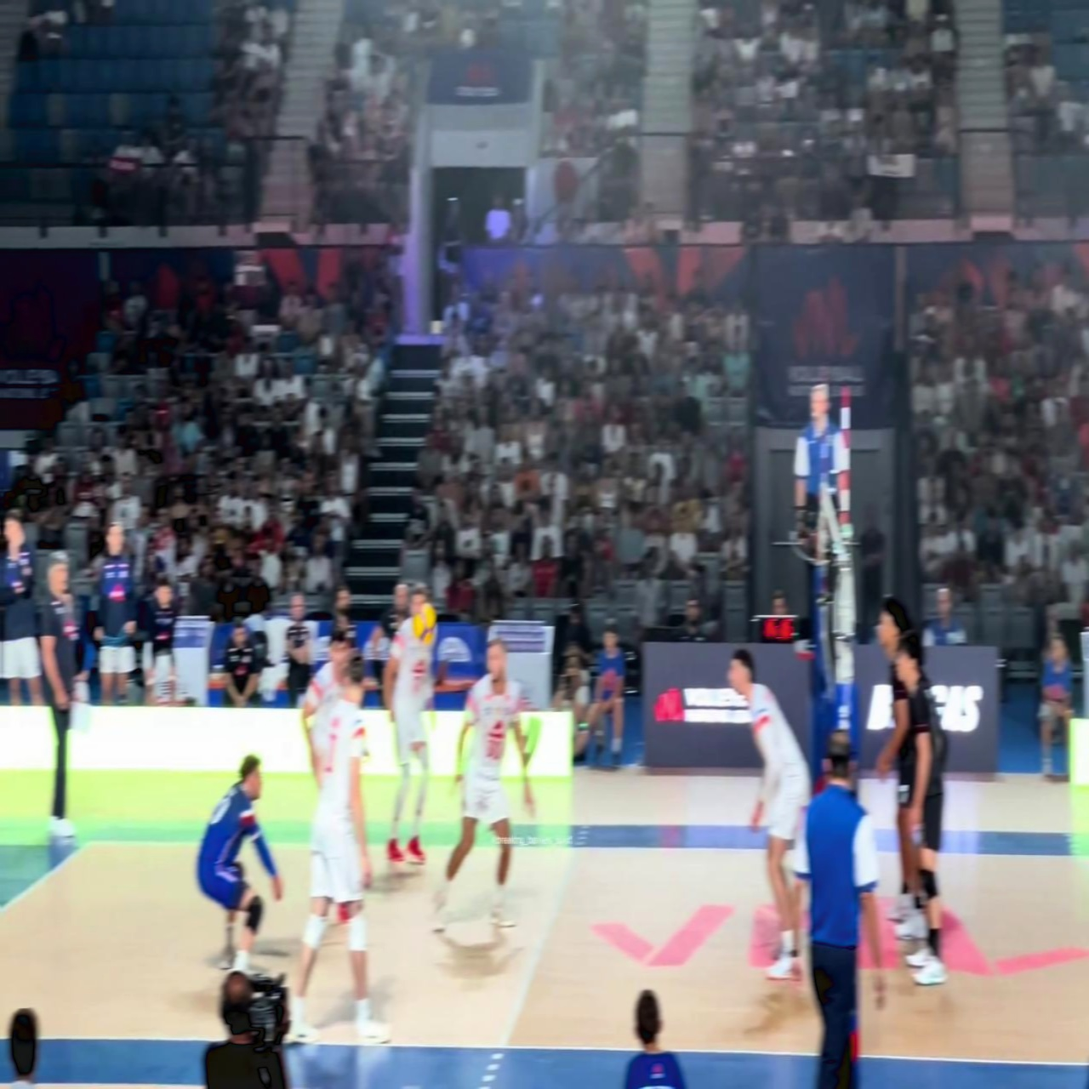ball: (413, 604, 435, 647)
